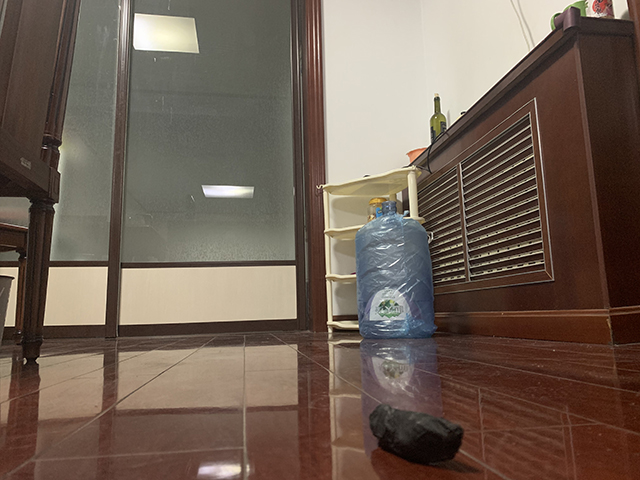cabinet: (407, 16, 640, 347)
feces: (367, 402, 465, 467)
